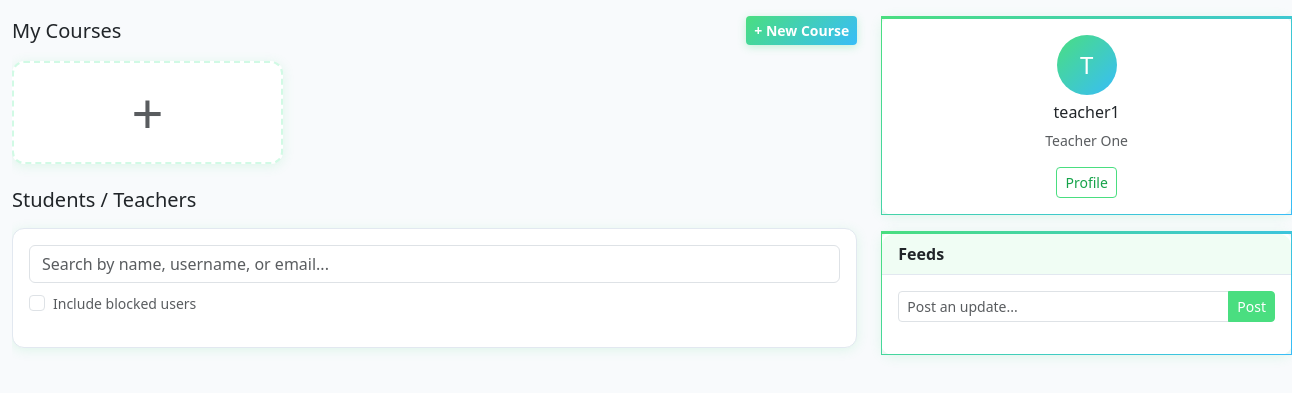
Test: TeacherHome › shows "No results found" when search returns empty
Type "nonexistent" into the field with placeholder "Search by name, username, or email..." at (435,264), box [29,245,840,283]
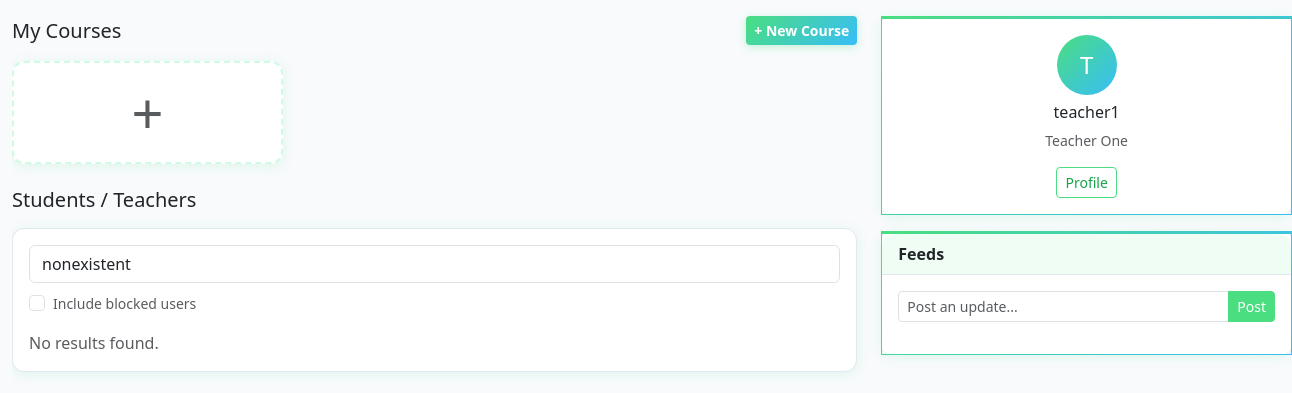
Check: the text "No results found." is shown, box [29,332,159,354]
